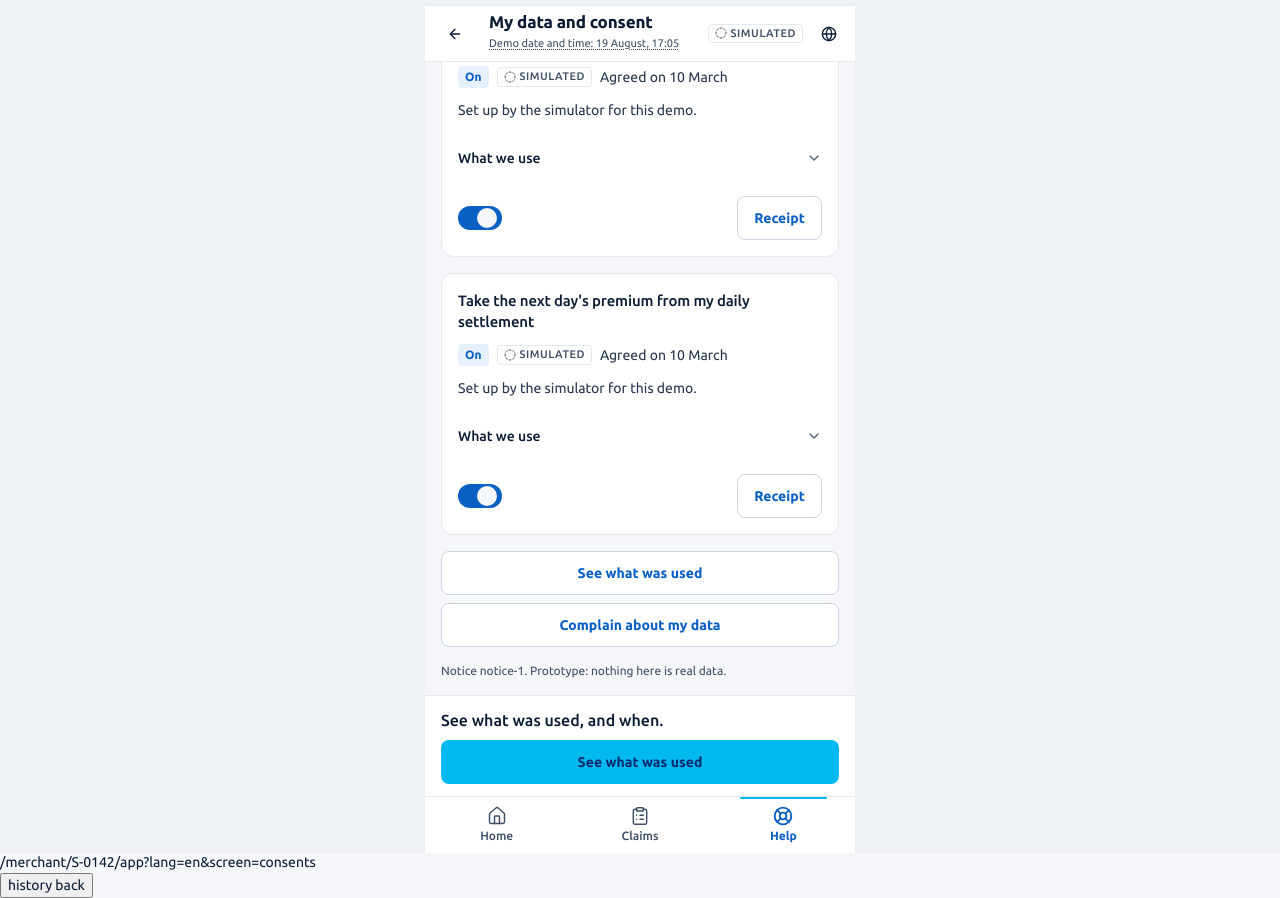
the consent centre › shows "Complain about my data" with n5_grievances, and it opens the form with that topic chosen
(page scrolled)
What coordinates should you click on to do the following:
click the button with test id "consent-complain"
I would click on:
 (640, 625)
Its box is x1=441 y1=603 x2=839 y2=647.
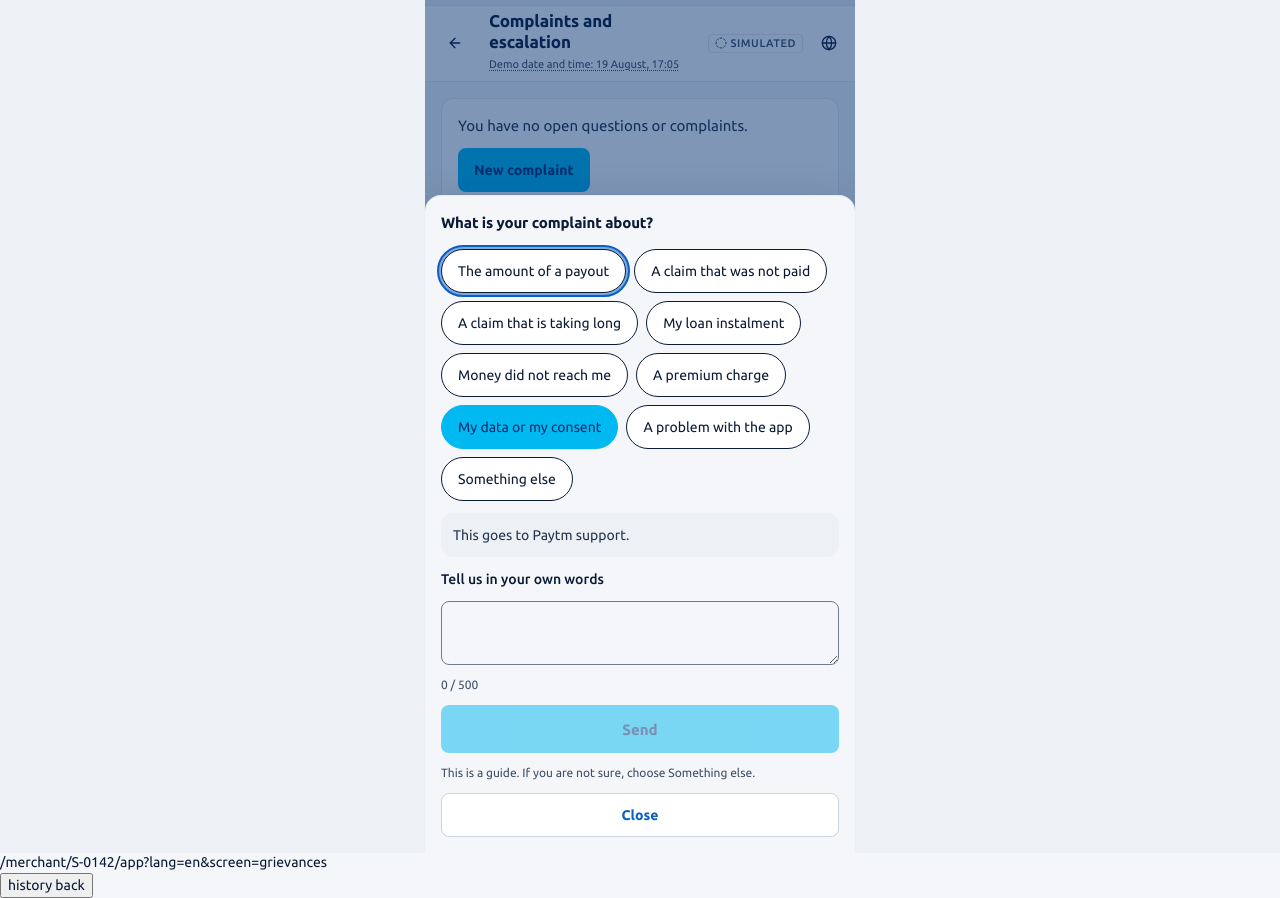
Expected: the element with test id "screen-grievances" is shown, x1=425 y1=82 x2=855 y2=224
Expected: the dialog with test id "grv-new-sheet" is shown, x1=425 y1=195 x2=855 y2=853
